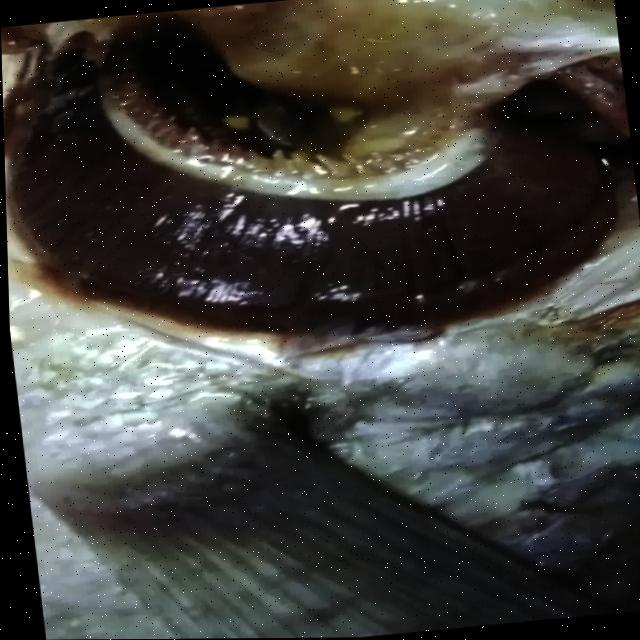Non-Fresh: (0, 0, 624, 382)
